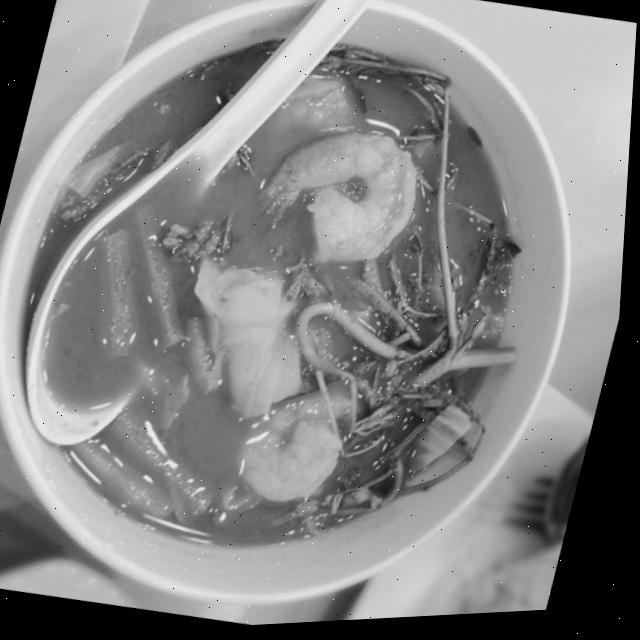汤锅炖物: (0, 0, 613, 640)
